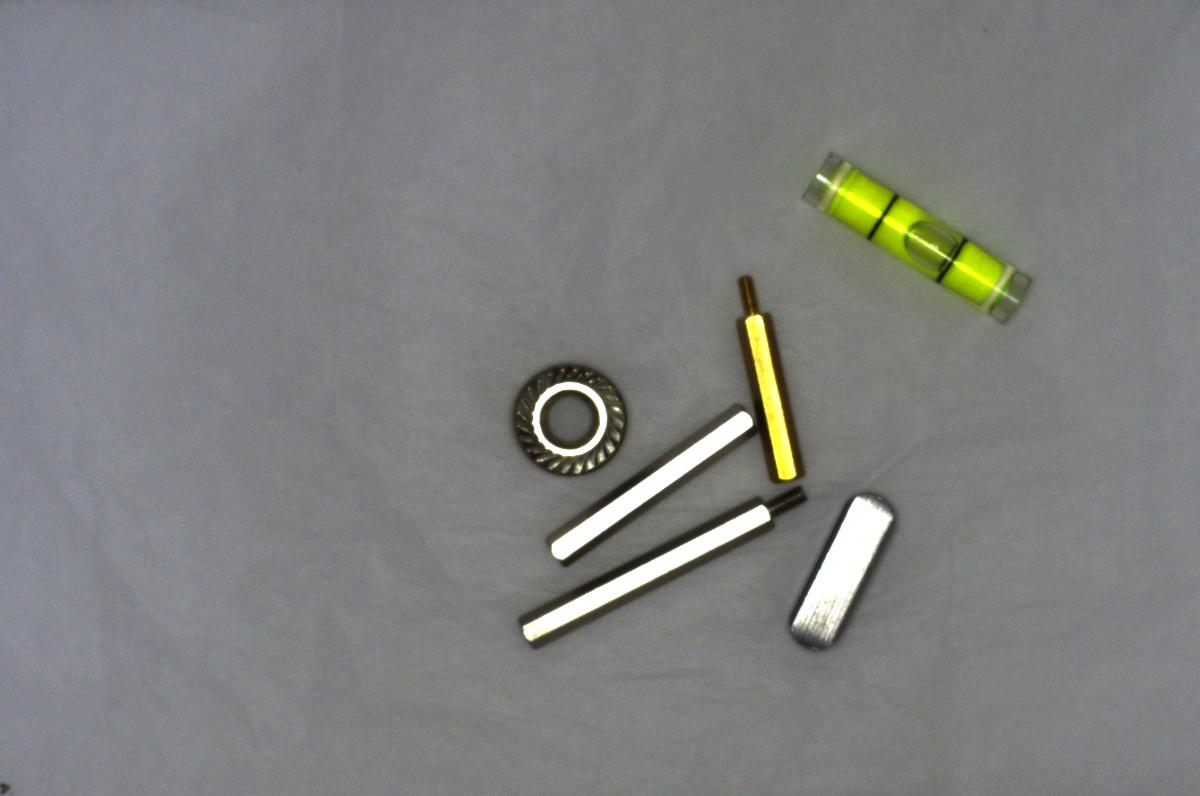Double hexagonal column: (543, 405, 758, 569)
Flange nut: (505, 353, 632, 486)
Hexagon pillar: (720, 254, 817, 490)
Hexagonal steel column: (519, 474, 815, 649)
Horizontal bubble: (792, 141, 1041, 328)
Keybar: (782, 482, 910, 662)
